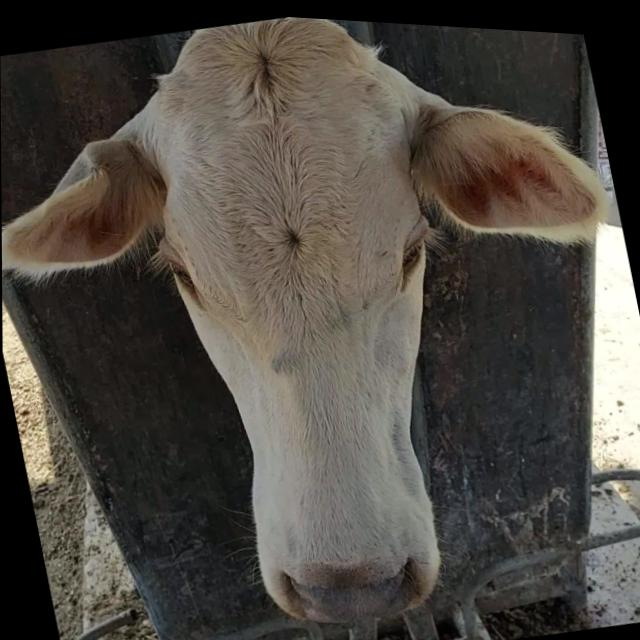cowFace: (122, 6, 503, 640)
